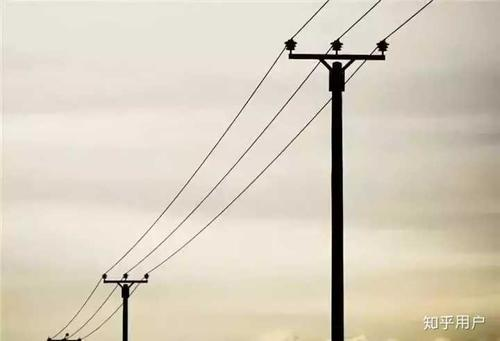utility_pole: (273, 28, 394, 97), (96, 268, 154, 299)
